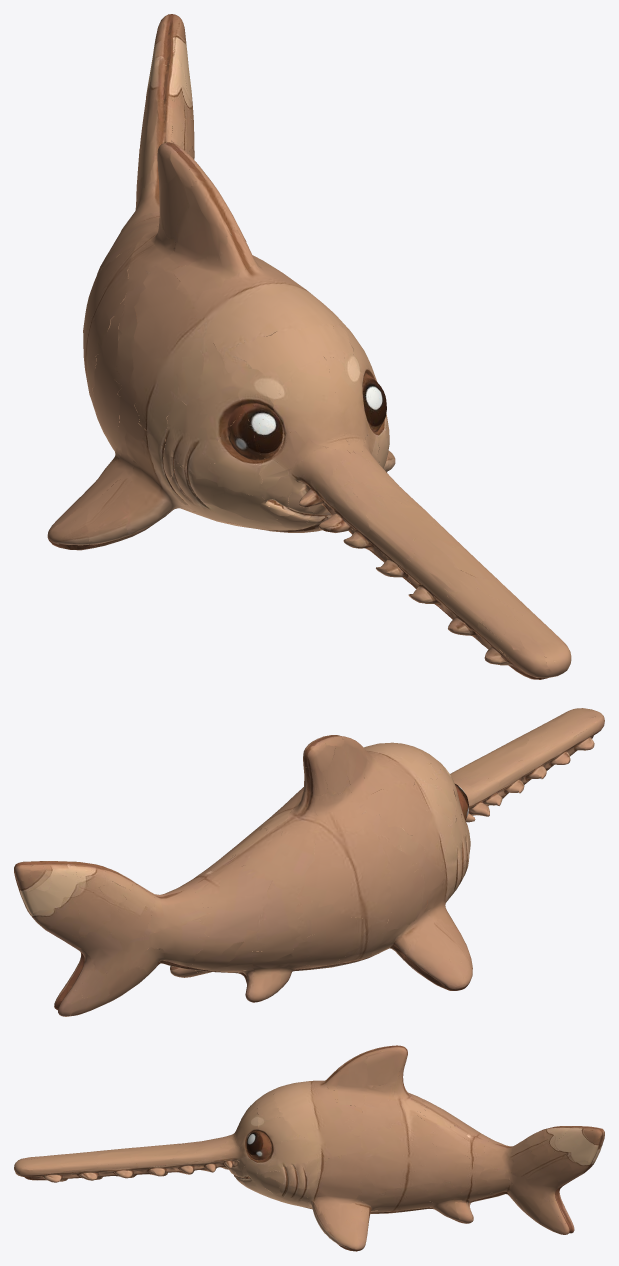
The picture shows the model from 3 angles, top to bottom: view 1: azimuth 30°, elevation 25°; view 2: azimuth 150°, elevation 25°; view 3: azimuth 270°, elevation 25°; orthographic projection. The views are drawn at different scales.
Visible parts, largest first — view 1: Mesh_0; view 2: Mesh_0; view 3: Mesh_0.
Boxes of the visible parts, left/top/right/bottom form: Mesh_0: left=47, top=14, right=571, bottom=679; Mesh_0: left=14, top=708, right=604, bottom=1016; Mesh_0: left=14, top=1045, right=604, bottom=1251.
Size of the model in its own units: 0.8432 by 0.7052 by 2.29.
1 material, 1 textured.
